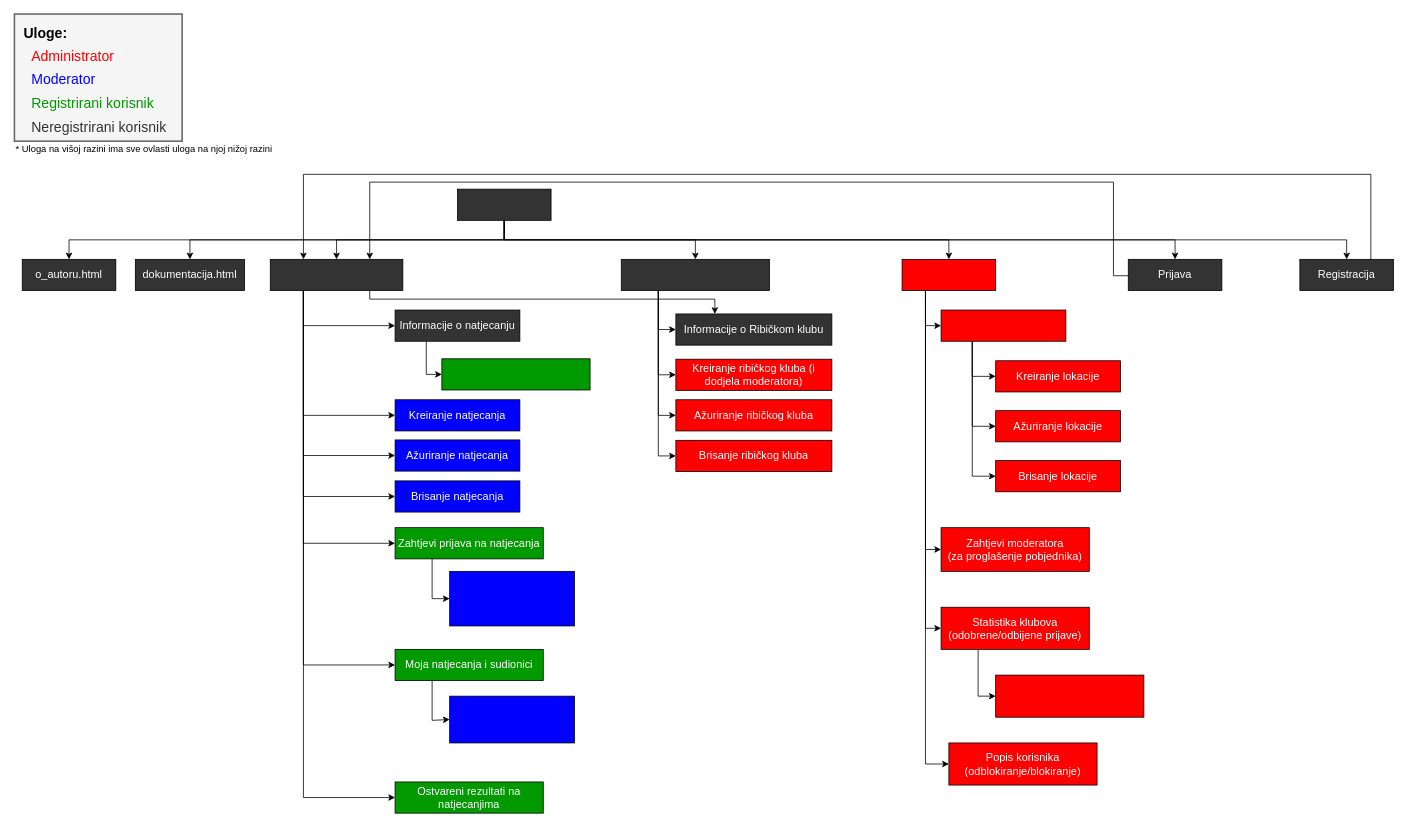
This 1407x827 diagram has some shape labels left out. Here are the shapes that lost their labels. From the top down, the box of each, then its label:
(457, 188, 551, 220): Početna
(269, 259, 403, 291): Popis natjecanja i klubova
(620, 259, 769, 291): Popis Ribički klubova
(901, 259, 996, 291): Ostalo
(940, 309, 1066, 341): Popis lokacija
(441, 358, 590, 390): Prijava na natjecanje
(449, 571, 574, 626): Sve prijave na natjecanje ( odobravanje/odbijanje)
(995, 674, 1144, 717): Statistika lokacija (odobrene/odbijene prijave)
(449, 695, 574, 743): Unos bodova i slanje zahtjeva za proglašenje pobjednika
